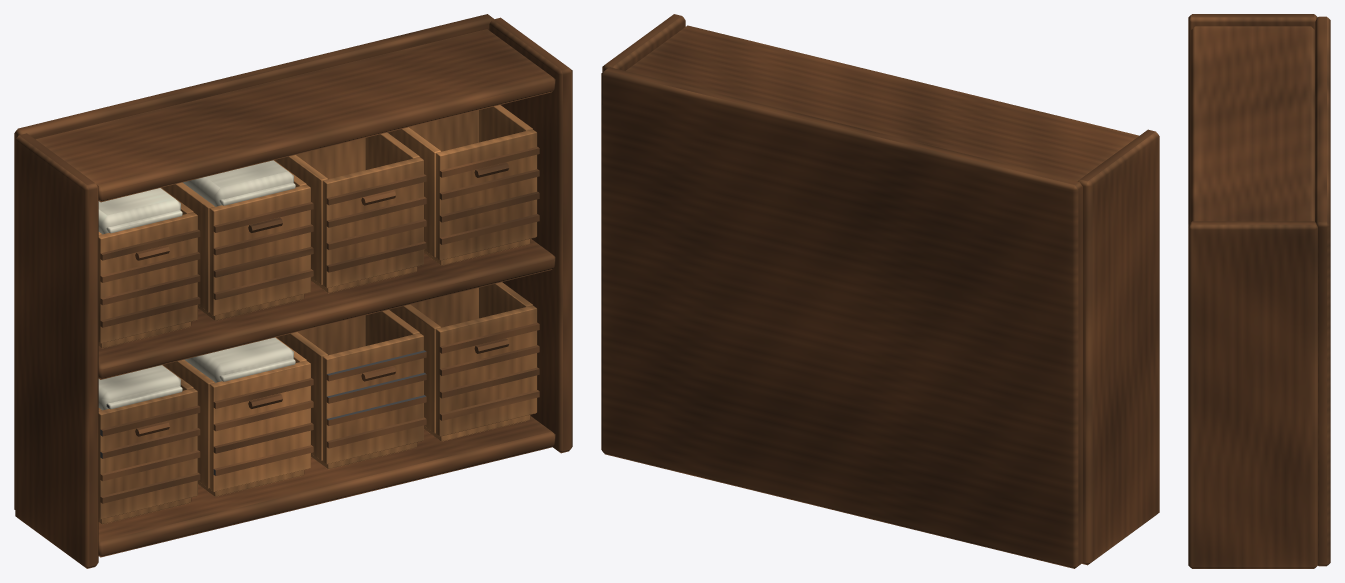
File: Furn_Dress_BasketShelf.fbx
3 views of the same model, side by side, from view 1: azimuth 30°, elevation 25°; view 2: azimuth 150°, elevation 25°; view 3: azimuth 270°, elevation 25° (orthographic). The views are drawn at different scales.
Parts seen in each view (by area): view 1: Furn_Dress_BasketShelf; view 2: Furn_Dress_BasketShelf; view 3: Furn_Dress_BasketShelf.
Part boxes in pixels (x1,y1,x2,y2): Furn_Dress_BasketShelf: [14, 14, 572, 568]; Furn_Dress_BasketShelf: [601, 14, 1159, 568]; Furn_Dress_BasketShelf: [1188, 14, 1330, 568].
Size of the model in its own units: 1.6 by 1.2 by 0.45.
3 materials, 3 textured.
